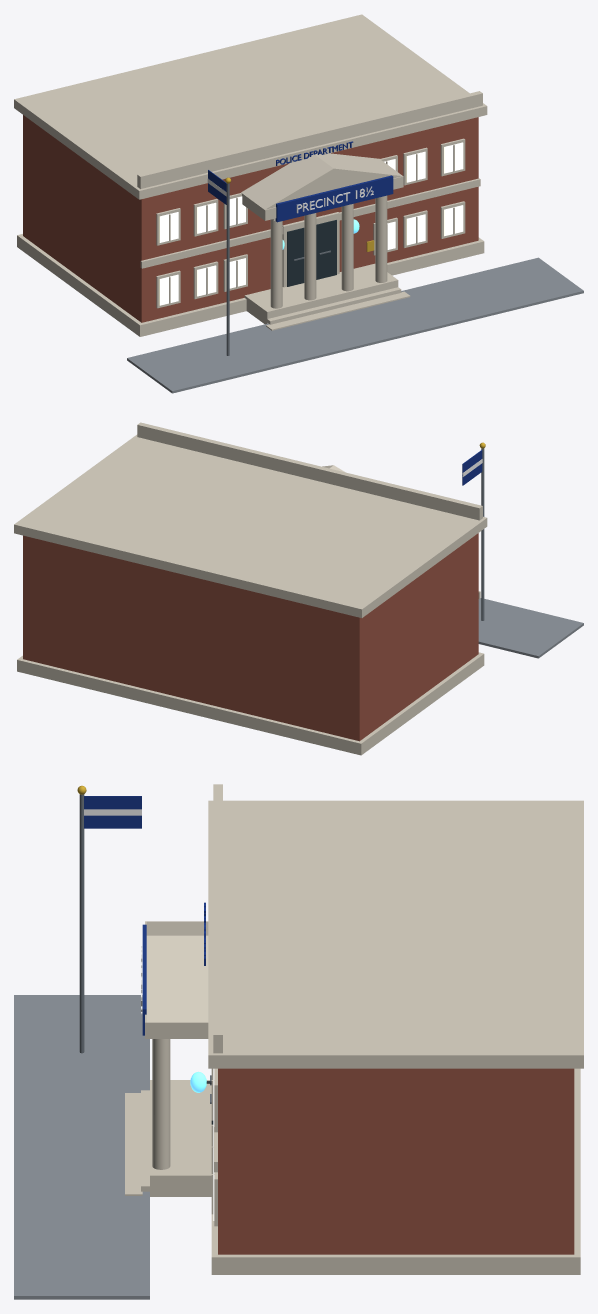
File: law_station.glb
The picture shows the model from 3 angles, top to bottom: view 1: azimuth 30°, elevation 25°; view 2: azimuth 150°, elevation 25°; view 3: azimuth 270°, elevation 25°; orthographic projection. The views are drawn at different scales.
Visible parts, largest first — view 1: LawStation_body; view 2: LawStation_body; view 3: LawStation_body.
Part boxes in pixels (x1,y1,x2,y2): LawStation_body: (14,14,583,393); LawStation_body: (14,422,583,755); LawStation_body: (14,784,583,1299).
Bounding box in the file's own units: 22 × 9.19 × 17.6.
